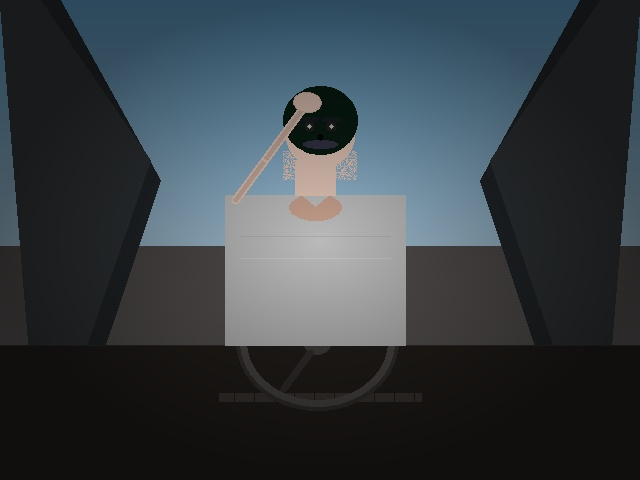hands_off_wheel: (288, 84, 325, 120)
